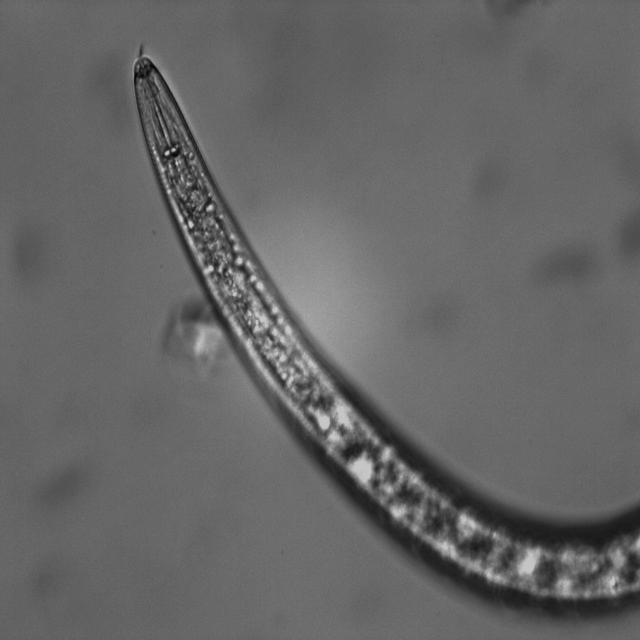Helicotylenchus: (127, 46, 482, 536)
